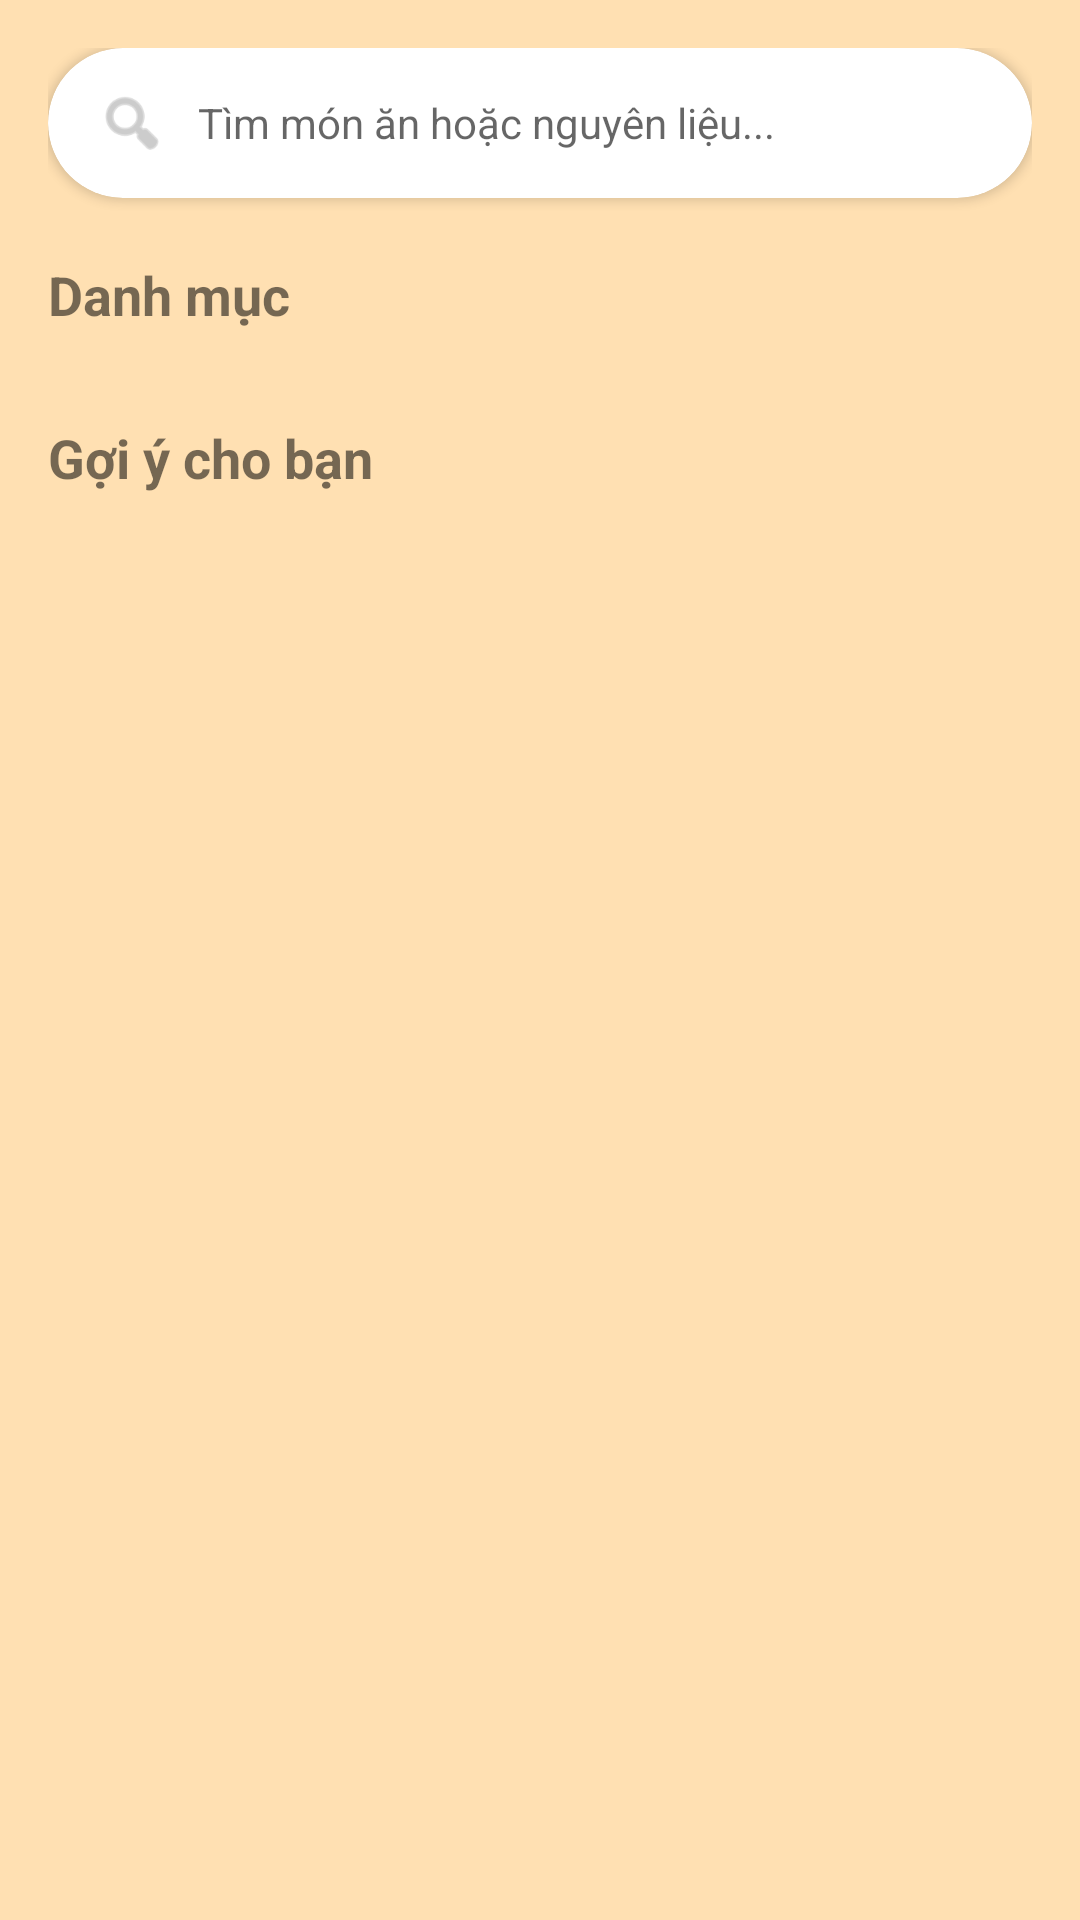

Icon bounding boxes for this 1080*1920 phone screenshot, format detection(x1, y1, x2, y2):
search: detection(106, 97, 158, 150)
